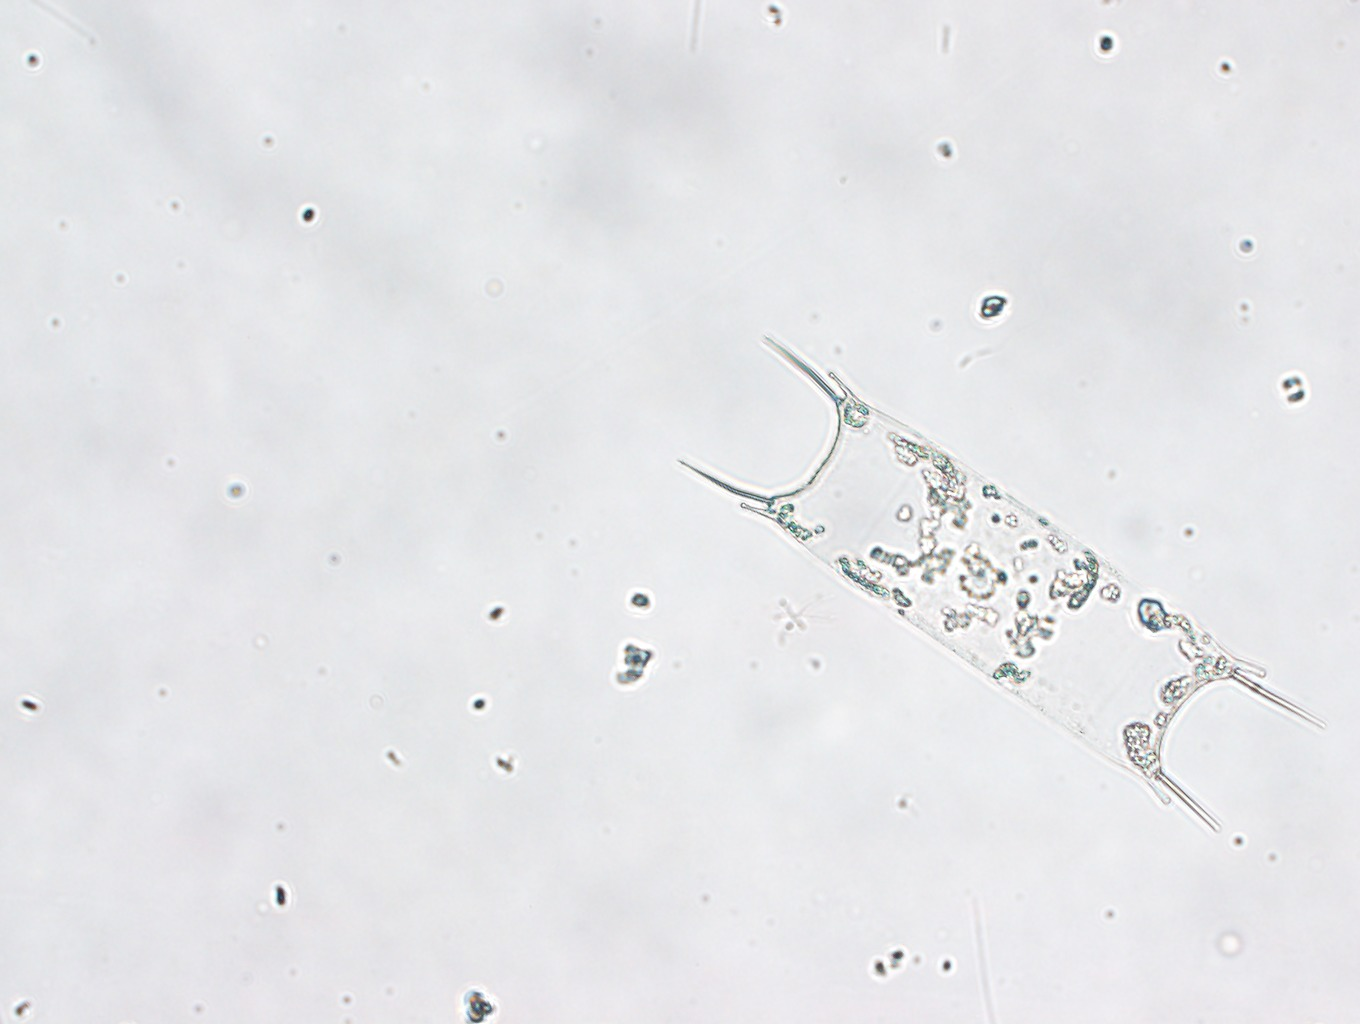biddulphia: (674, 335, 1326, 834)
